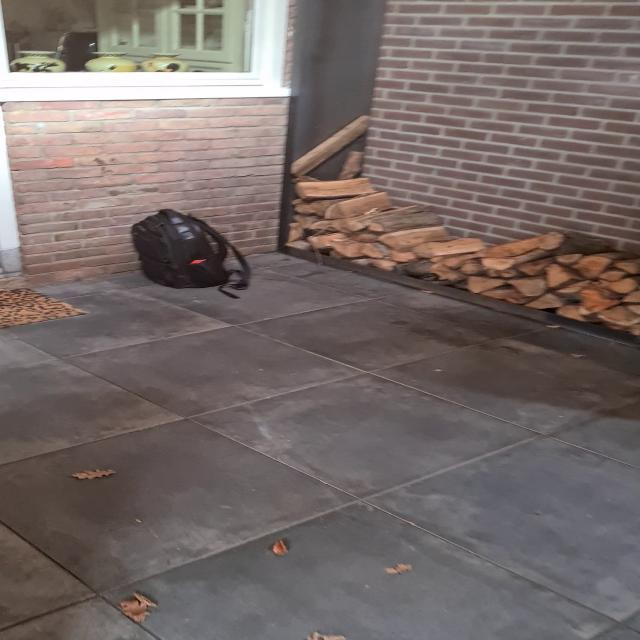backpack: (126, 206, 244, 292)
